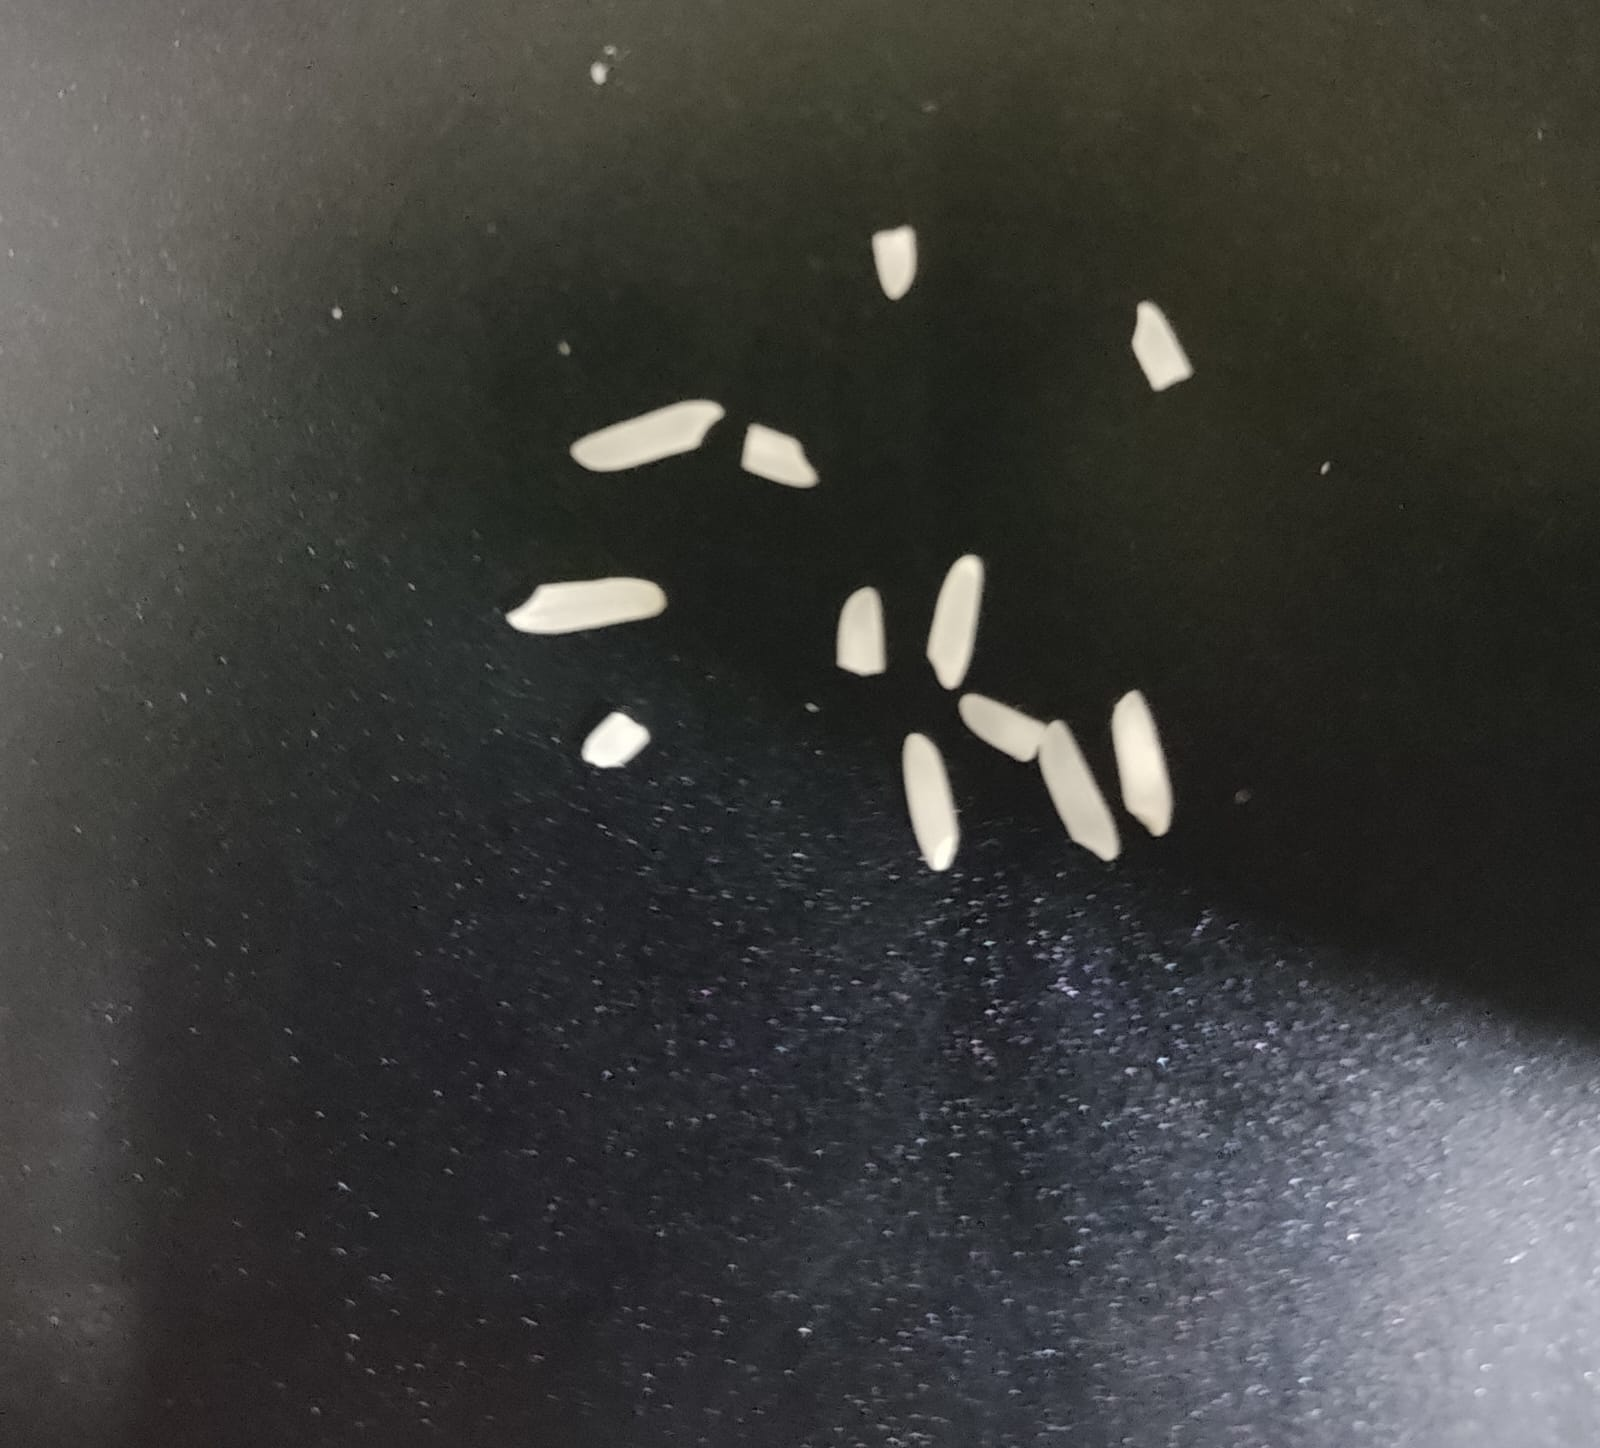broken_grain: (825, 567, 898, 694), (1119, 296, 1200, 396), (955, 687, 1045, 769), (736, 415, 824, 496), (570, 699, 654, 777), (861, 211, 925, 307)
complete_grain: (1037, 710, 1122, 877), (556, 394, 729, 477), (1106, 687, 1191, 844), (500, 567, 673, 641), (896, 724, 967, 881), (919, 547, 989, 692)
